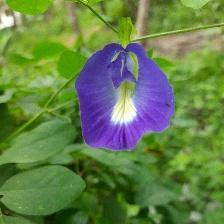shankupushpam: (74, 41, 179, 155)
